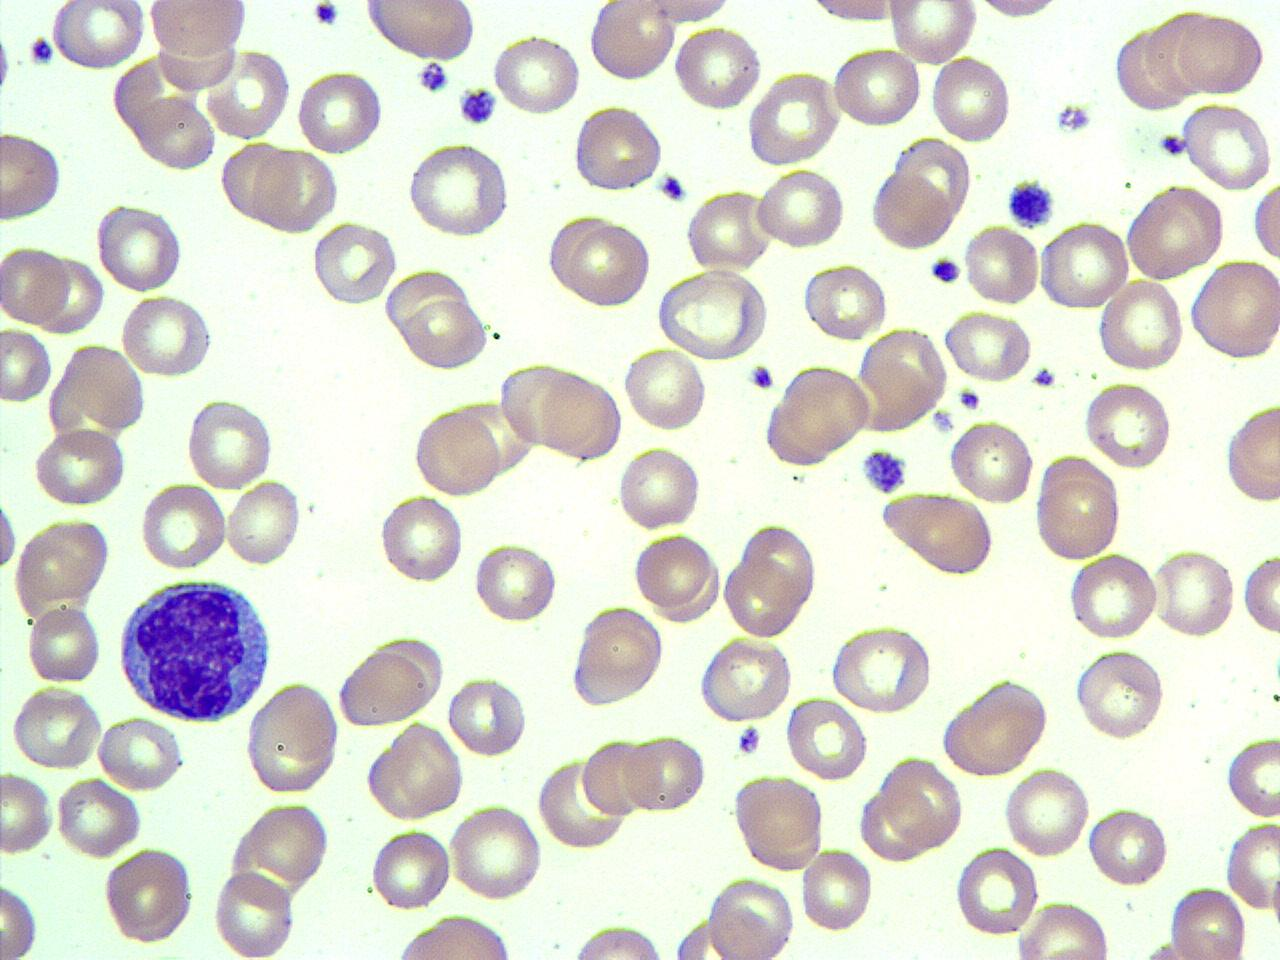Platelets: (858, 445, 910, 498), (1003, 178, 1055, 228), (455, 83, 499, 129), (1053, 101, 1093, 136), (416, 58, 450, 94), (0, 26, 14, 102), (929, 255, 963, 286), (28, 32, 56, 69), (1156, 130, 1188, 159), (659, 172, 688, 203), (737, 722, 762, 756), (747, 362, 776, 391), (930, 408, 958, 435), (311, 1, 340, 27), (956, 384, 981, 412), (1029, 366, 1055, 388)
RBC: (942, 675, 1052, 778), (244, 680, 341, 796), (655, 266, 771, 362), (404, 139, 510, 240), (880, 488, 996, 578), (1031, 452, 1123, 564), (1122, 182, 1226, 281), (568, 602, 665, 708), (828, 622, 934, 715), (368, 720, 465, 821), (335, 638, 441, 730), (1188, 258, 1280, 363), (745, 68, 843, 166), (730, 770, 826, 870), (102, 846, 196, 948), (1071, 645, 1169, 742), (448, 802, 544, 900), (13, 514, 115, 606), (536, 754, 630, 852), (1094, 275, 1186, 374), (859, 324, 949, 425), (694, 634, 794, 724), (571, 101, 666, 195), (778, 361, 874, 454), (500, 358, 594, 452), (1180, 99, 1276, 191), (1003, 762, 1091, 862), (55, 341, 148, 435), (1038, 218, 1132, 311), (559, 216, 654, 308), (1064, 550, 1160, 641), (184, 395, 274, 491), (203, 44, 290, 143), (412, 406, 504, 499), (1079, 378, 1173, 469), (9, 684, 106, 772), (94, 199, 185, 292), (120, 292, 216, 380), (947, 417, 1038, 508), (672, 23, 764, 113), (954, 844, 1042, 938), (378, 490, 464, 586), (139, 480, 228, 572), (880, 754, 964, 851), (31, 425, 129, 508), (294, 67, 385, 156), (1180, 6, 1268, 98), (753, 166, 849, 250), (1151, 546, 1237, 639), (210, 868, 298, 958), (622, 343, 709, 434), (491, 31, 583, 117), (741, 519, 819, 620), (251, 146, 340, 234), (312, 217, 398, 308), (928, 55, 1014, 146), (784, 692, 869, 782), (246, 800, 332, 888), (472, 538, 558, 626), (617, 444, 703, 532), (54, 774, 144, 858), (706, 874, 796, 958), (538, 372, 624, 459), (831, 46, 921, 129), (684, 188, 772, 272), (368, 825, 452, 913), (95, 712, 186, 793), (586, 2, 678, 82), (800, 260, 889, 342), (621, 730, 707, 814), (942, 308, 1037, 384), (217, 140, 299, 228), (224, 476, 302, 568), (800, 842, 876, 936), (720, 553, 802, 640), (868, 168, 952, 251), (362, 2, 478, 62), (48, 0, 147, 70), (962, 222, 1042, 308), (1112, 25, 1188, 114), (632, 530, 714, 612), (446, 674, 528, 756), (1088, 806, 1170, 888), (132, 94, 216, 171), (26, 602, 103, 686), (1168, 882, 1250, 960), (1145, 8, 1213, 102), (403, 295, 488, 370), (0, 128, 65, 226), (384, 266, 470, 340), (384, 911, 518, 958), (579, 733, 653, 818), (1012, 898, 1113, 960), (1, 240, 72, 328), (886, 0, 978, 65), (1223, 398, 1279, 504), (145, 0, 251, 56), (1225, 819, 1279, 917), (1224, 733, 1280, 820), (0, 771, 55, 855), (564, 922, 674, 960), (0, 326, 53, 404), (0, 876, 42, 958), (1240, 552, 1280, 638), (798, 0, 908, 27), (968, 0, 1064, 24), (1251, 182, 1279, 263), (0, 480, 20, 582)
WBC: (113, 571, 277, 724)
